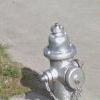Hydrant: (37, 11, 87, 100)
